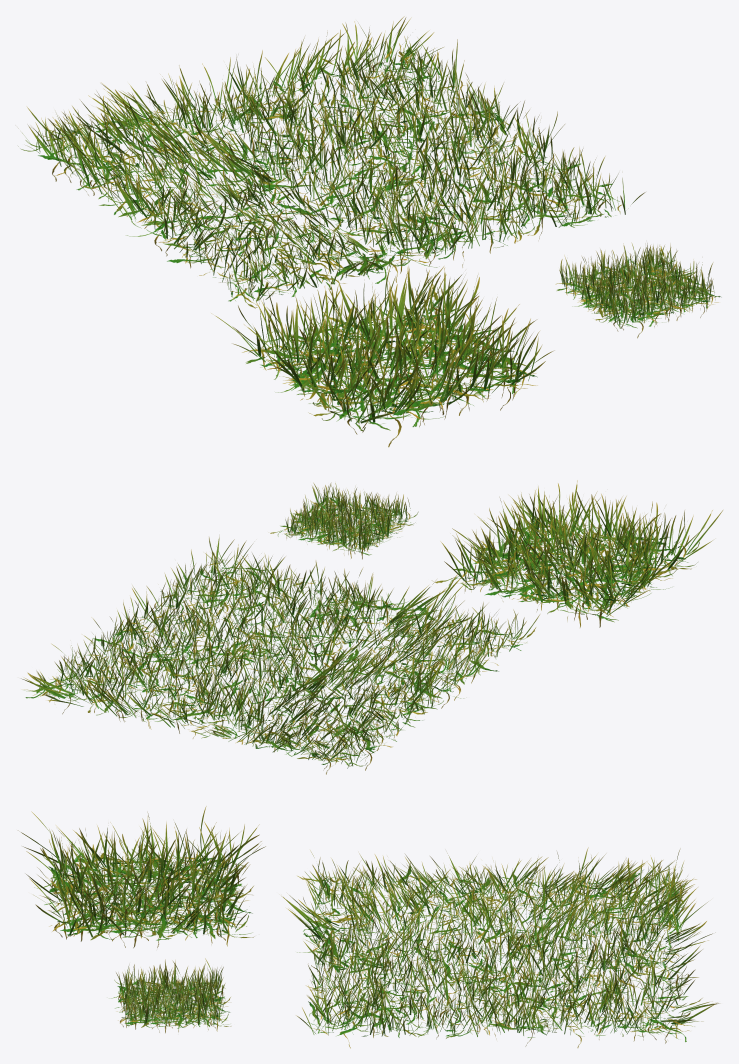
File: grass_patches_-_squares.glb
3 renders of one model, top to bottom at view 1: azimuth 30°, elevation 25°; view 2: azimuth 150°, elevation 25°; view 3: azimuth 270°, elevation 25°, orthographic. The views are drawn at different scales.
Parts seen in each view (by area): view 1: GrassEmitterCircleMesh.005|BR_MainGrass_Diff.034|Dupli|385.1 (×4); view 2: GrassEmitterCircleMesh.005|BR_MainGrass_Diff.034|Dupli|385.1 (×4); view 3: GrassEmitterCircleMesh.005|BR_MainGrass_Diff.034|Dupli|385.1 (×4).
Boxes of the visible parts, bbox=[...] form: GrassEmitterCircleMesh.005|BR_MainGrass_Diff.034|Dupli|385.1 (×4): bbox=[18, 16, 720, 447]; GrassEmitterCircleMesh.005|BR_MainGrass_Diff.034|Dupli|385.1 (×4): bbox=[21, 480, 722, 774]; GrassEmitterCircleMesh.005|BR_MainGrass_Diff.034|Dupli|385.1 (×4): bbox=[18, 806, 719, 1048].
Bounding box in the file's own units: 11.86 × 1.88 × 18.01.
1 material, 1 textured.
